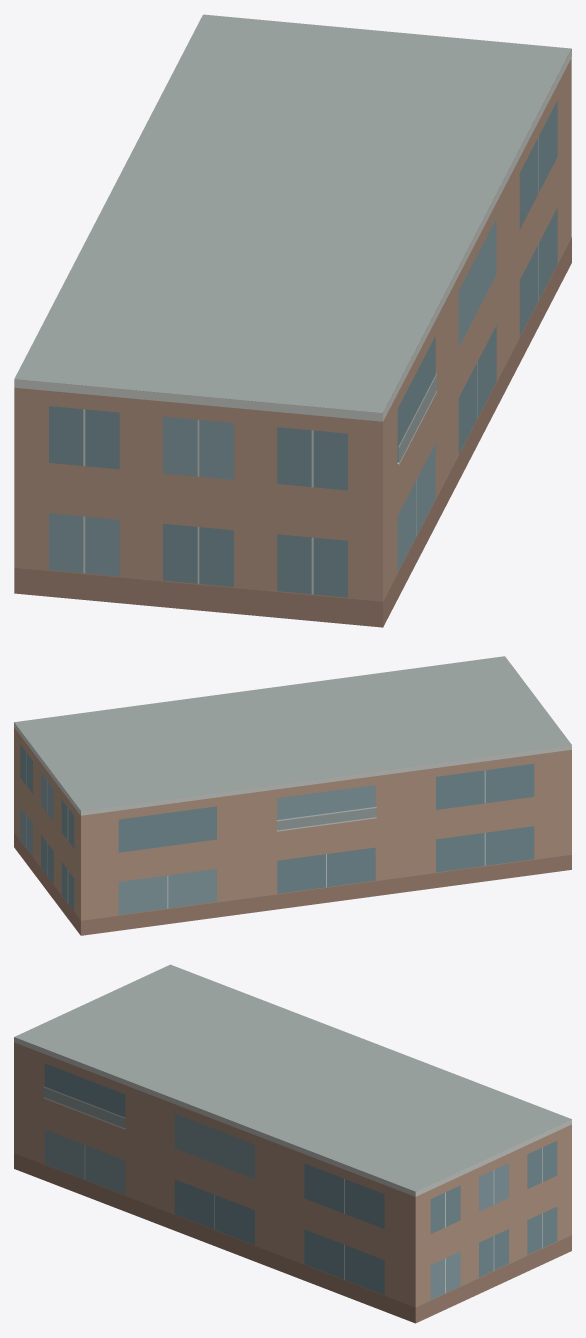
File: residential-033dab69-7118-4b05-a31c-31953c2484b8.glb
3 views of the same model, one above another, from view 1: azimuth 30°, elevation 25°; view 2: azimuth 150°, elevation 25°; view 3: azimuth 270°, elevation 25° (orthographic). The views are drawn at different scales.
Visible parts, largest first — view 1: residential-033dab69-7118-4b05-a31c-31953c2484b8.tmp; view 2: residential-033dab69-7118-4b05-a31c-31953c2484b8.tmp; view 3: residential-033dab69-7118-4b05-a31c-31953c2484b8.tmp.
Boxes of the visible parts, bbox=[...] form: residential-033dab69-7118-4b05-a31c-31953c2484b8.tmp: bbox=[14, 14, 571, 627]; residential-033dab69-7118-4b05-a31c-31953c2484b8.tmp: bbox=[14, 656, 571, 935]; residential-033dab69-7118-4b05-a31c-31953c2484b8.tmp: bbox=[14, 964, 571, 1323].
Bounding box in the file's own units: 22.56 × 6.1 × 23.41.
